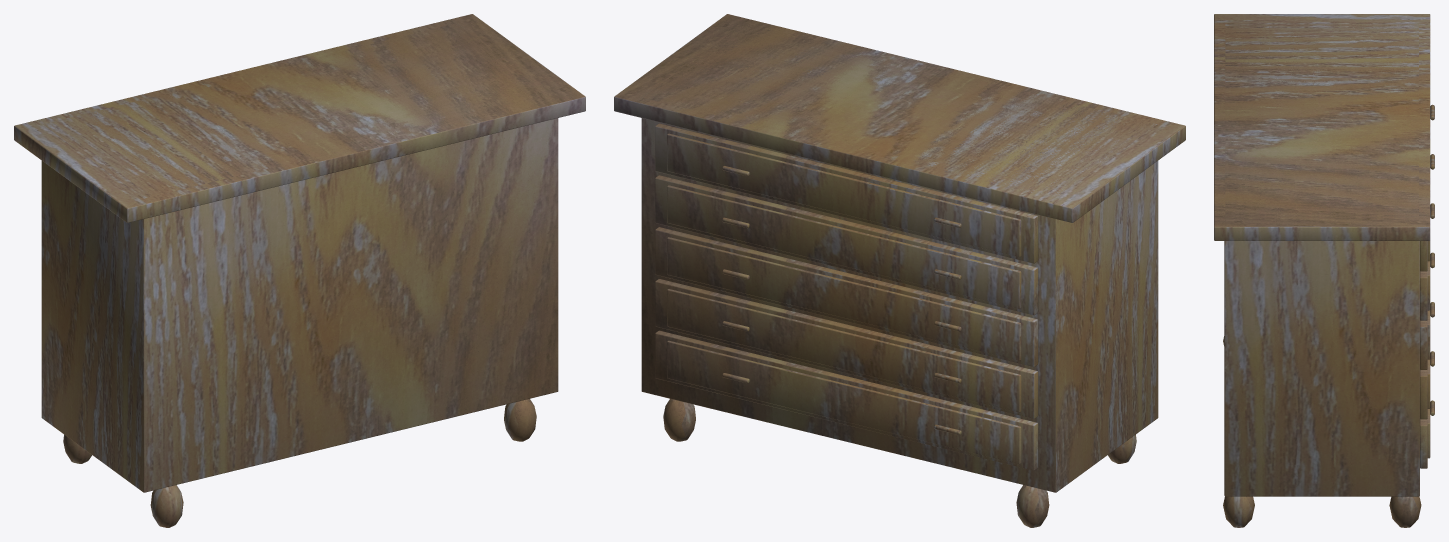
File: Antique_Chest_04.fbx
The picture shows the model from 3 angles, left to right: view 1: azimuth 30°, elevation 25°; view 2: azimuth 150°, elevation 25°; view 3: azimuth 270°, elevation 25°; orthographic projection. The views are drawn at different scales.
Visible parts, largest first — view 1: Antique_Chest; view 2: Antique_Chest; view 3: Antique_Chest.
Boxes of the visible parts, box(x1,y1,x2,y2) form: Antique_Chest: box(14, 14, 585, 527); Antique_Chest: box(614, 14, 1185, 527); Antique_Chest: box(1214, 14, 1434, 527).
Size of the model in its own units: 1.6 by 1.14 by 0.7007.
1 material, 1 textured.
